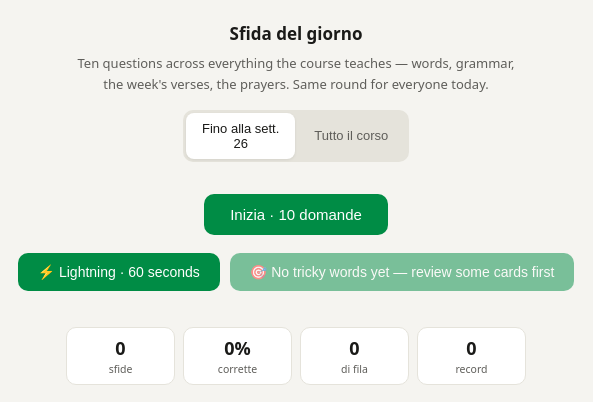
Scenario: QuizGame › shows the first question with its options and no answer given away
This screenshot has width=593, height=402.
Click the button "Inizia · 10 domande": (296, 214) [204, 194, 388, 235]
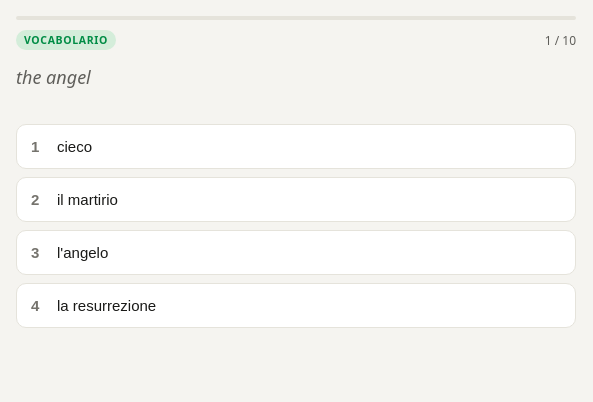
Check: the text "the angel" is shown, box [16, 64, 91, 92]
